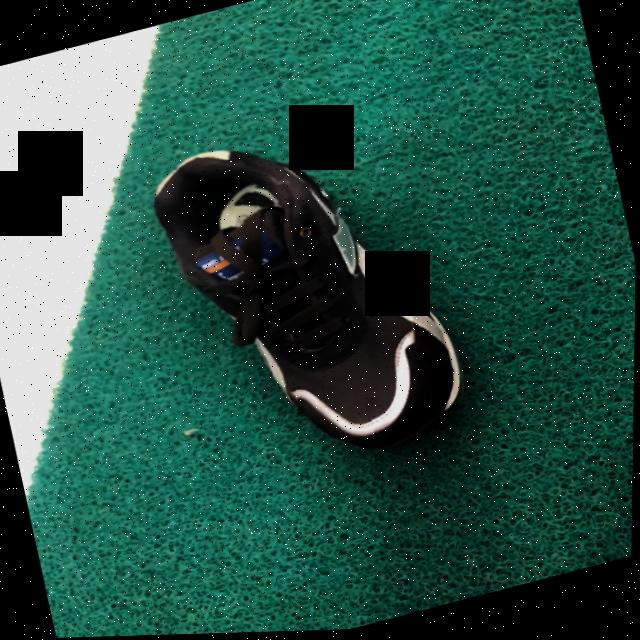shoe: (153, 152, 465, 456)
